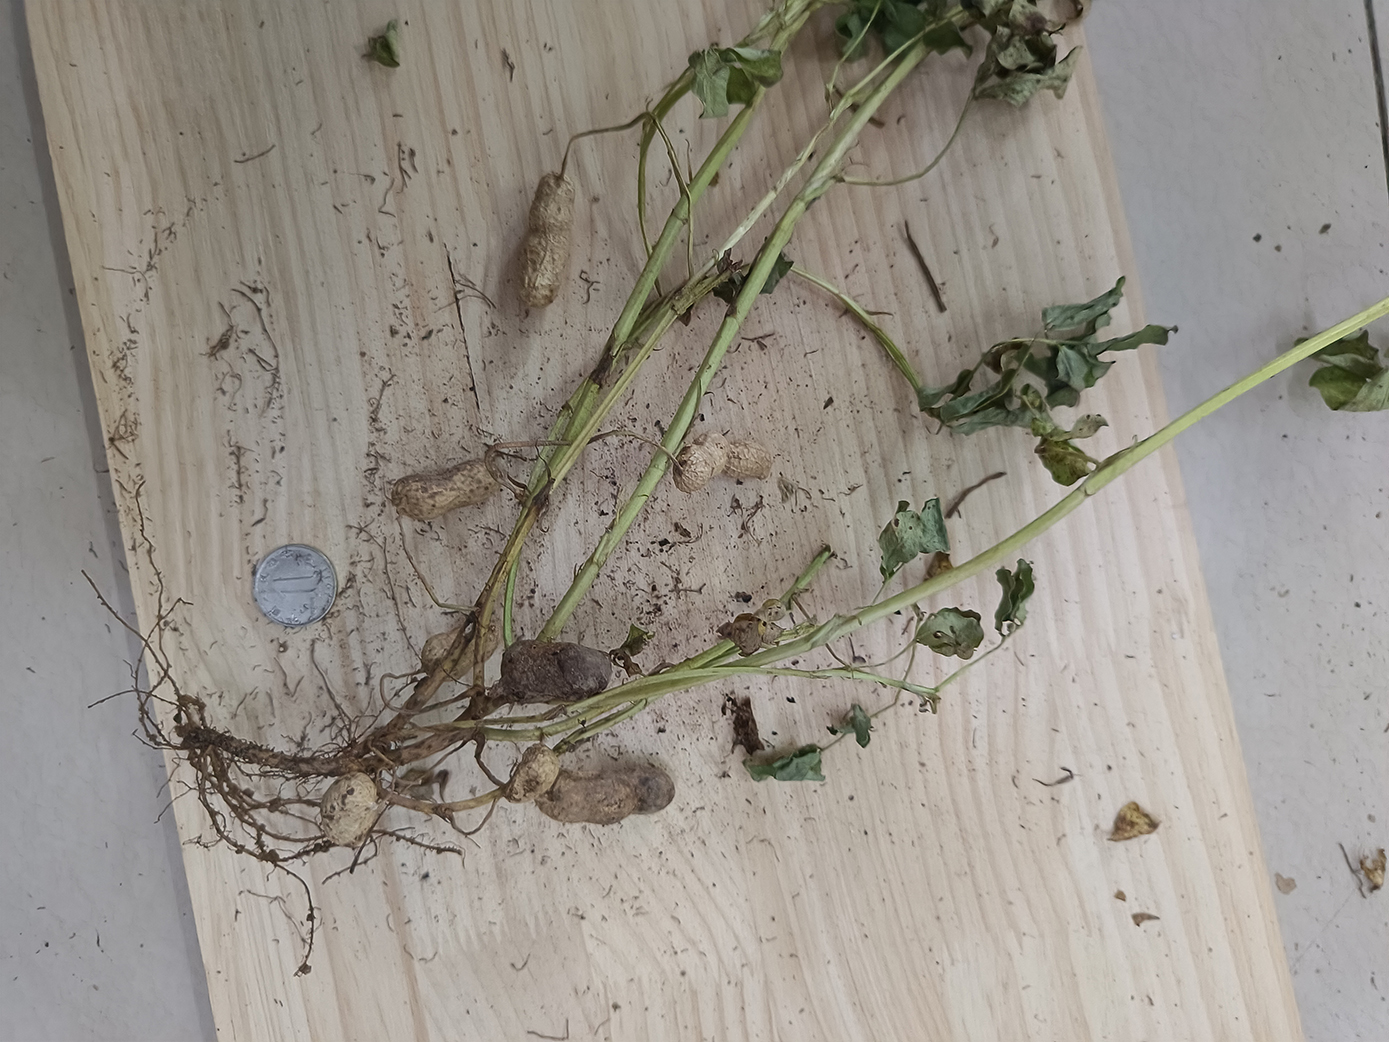h: (519, 172, 575, 310), (393, 461, 503, 519), (673, 432, 773, 491), (320, 769, 378, 847), (424, 618, 500, 676), (508, 744, 560, 806)
l: (501, 637, 613, 707), (537, 769, 676, 823)
